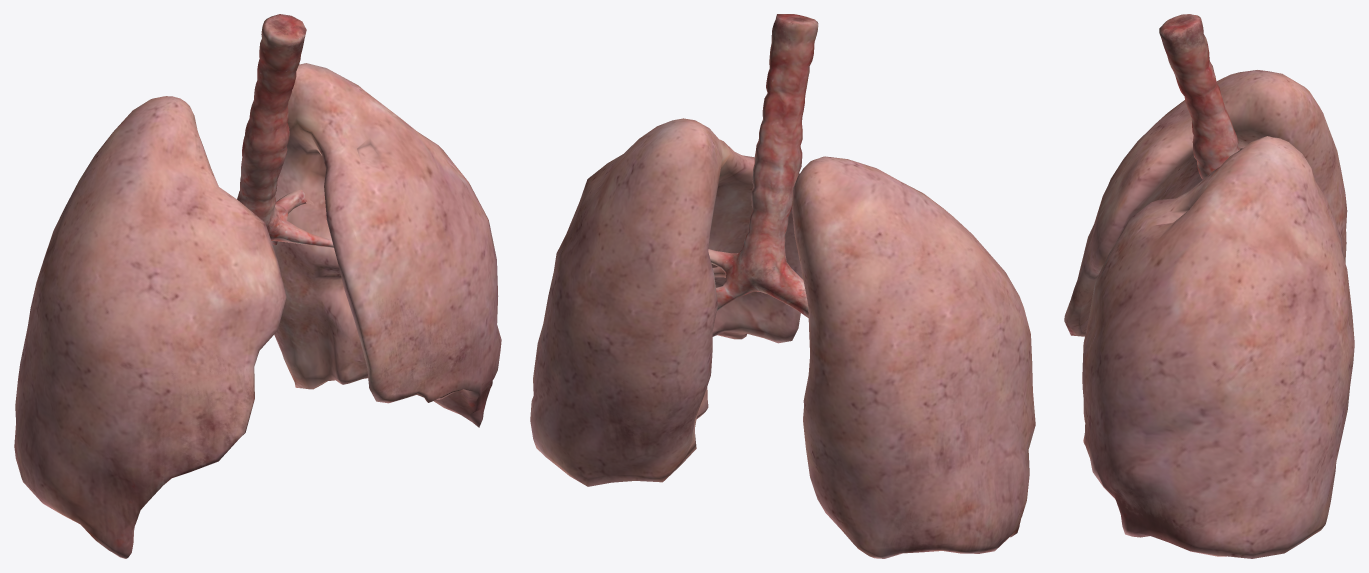
3 views of the same model, side by side, from view 1: azimuth 30°, elevation 25°; view 2: azimuth 150°, elevation 25°; view 3: azimuth 270°, elevation 25° (orthographic). The views are drawn at different scales.
Visible parts, largest first — view 1: Lungs_LowPoly; view 2: Lungs_LowPoly; view 3: Lungs_LowPoly.
Part boxes in pixels (x1,y1,x2,y2): Lungs_LowPoly: [14, 14, 501, 558]; Lungs_LowPoly: [530, 14, 1035, 558]; Lungs_LowPoly: [1064, 14, 1354, 558].
Size of the model in its own units: 0.4763 by 0.4828 by 0.2643.
1 material, 1 textured.
